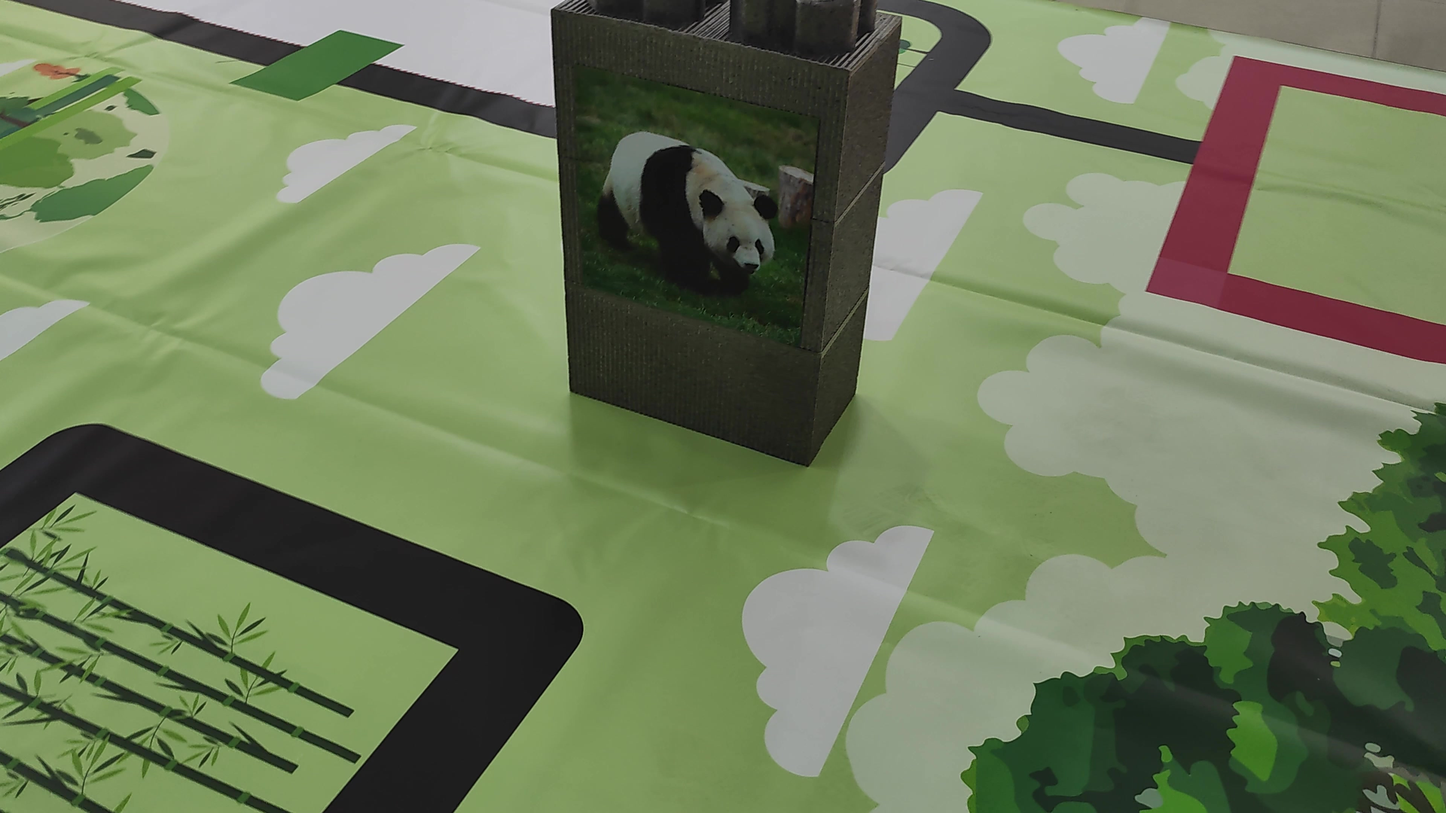panda: (578, 79, 803, 324)
